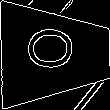O_E: (27, 32, 83, 76)
